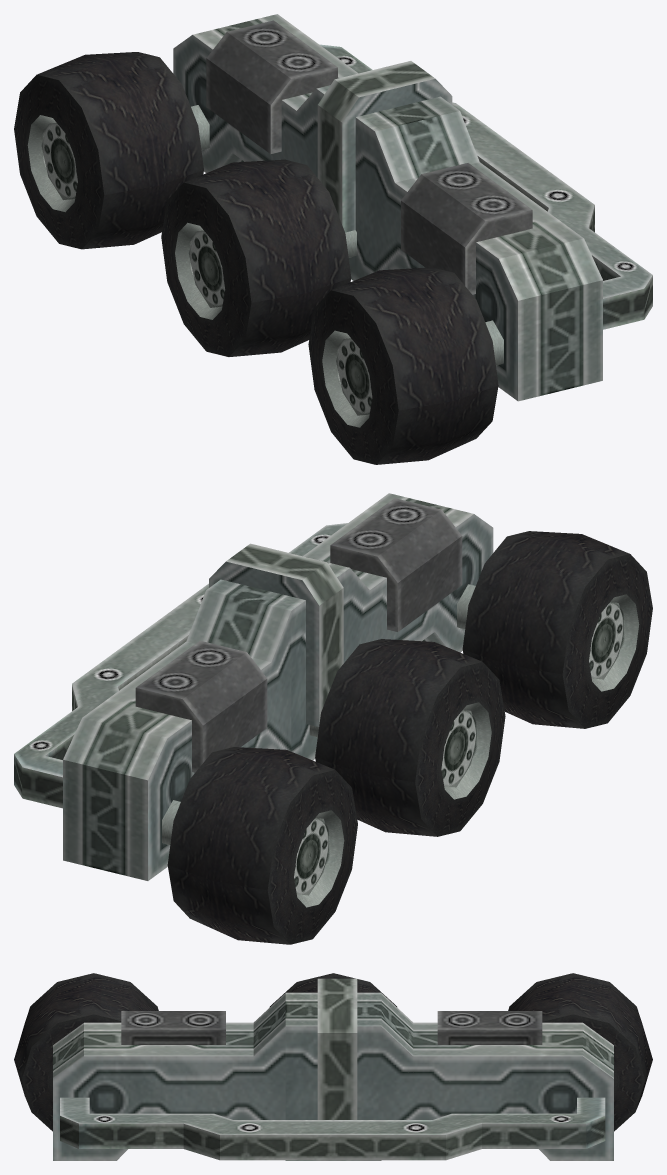
File: Wheel_half_short_tri_L.FBX
3 renders of one model, top to bottom at view 1: azimuth 30°, elevation 25°; view 2: azimuth 150°, elevation 25°; view 3: azimuth 270°, elevation 25°, orthographic. The views are drawn at different scales.
Parts seen in each view (by area): view 1: Wheel_half_short_tri_L; view 2: Wheel_half_short_tri_L; view 3: Wheel_half_short_tri_L.
Part boxes in pixels (x1,y1,x2,y2): Wheel_half_short_tri_L: (14, 14, 652, 464); Wheel_half_short_tri_L: (14, 493, 652, 944); Wheel_half_short_tri_L: (14, 973, 652, 1160).
Bounding box in the file's own units: 191 × 131 × 400.
